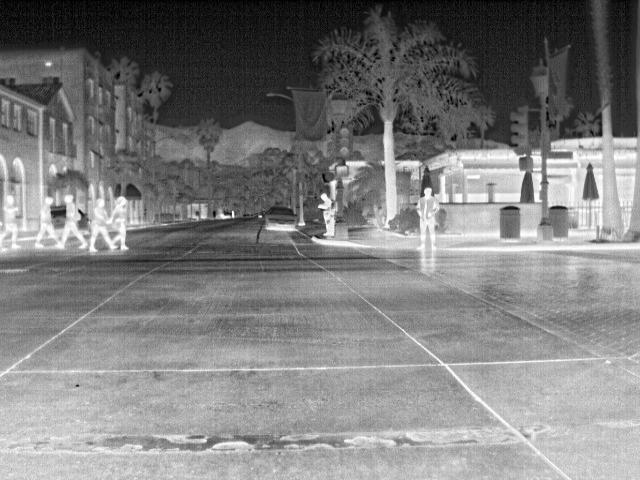car: (259, 204, 301, 234)
person: (48, 192, 90, 250), (32, 193, 62, 249), (105, 196, 134, 252), (88, 198, 117, 253), (416, 185, 440, 251), (0, 195, 26, 247), (316, 191, 336, 238)
